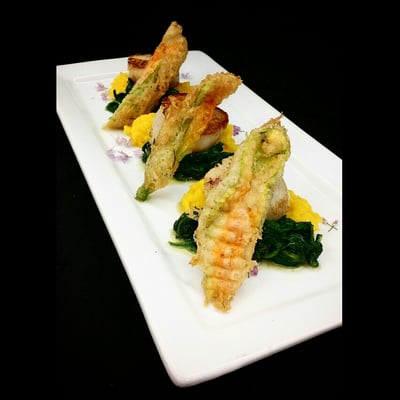soup: (102, 19, 188, 134)
